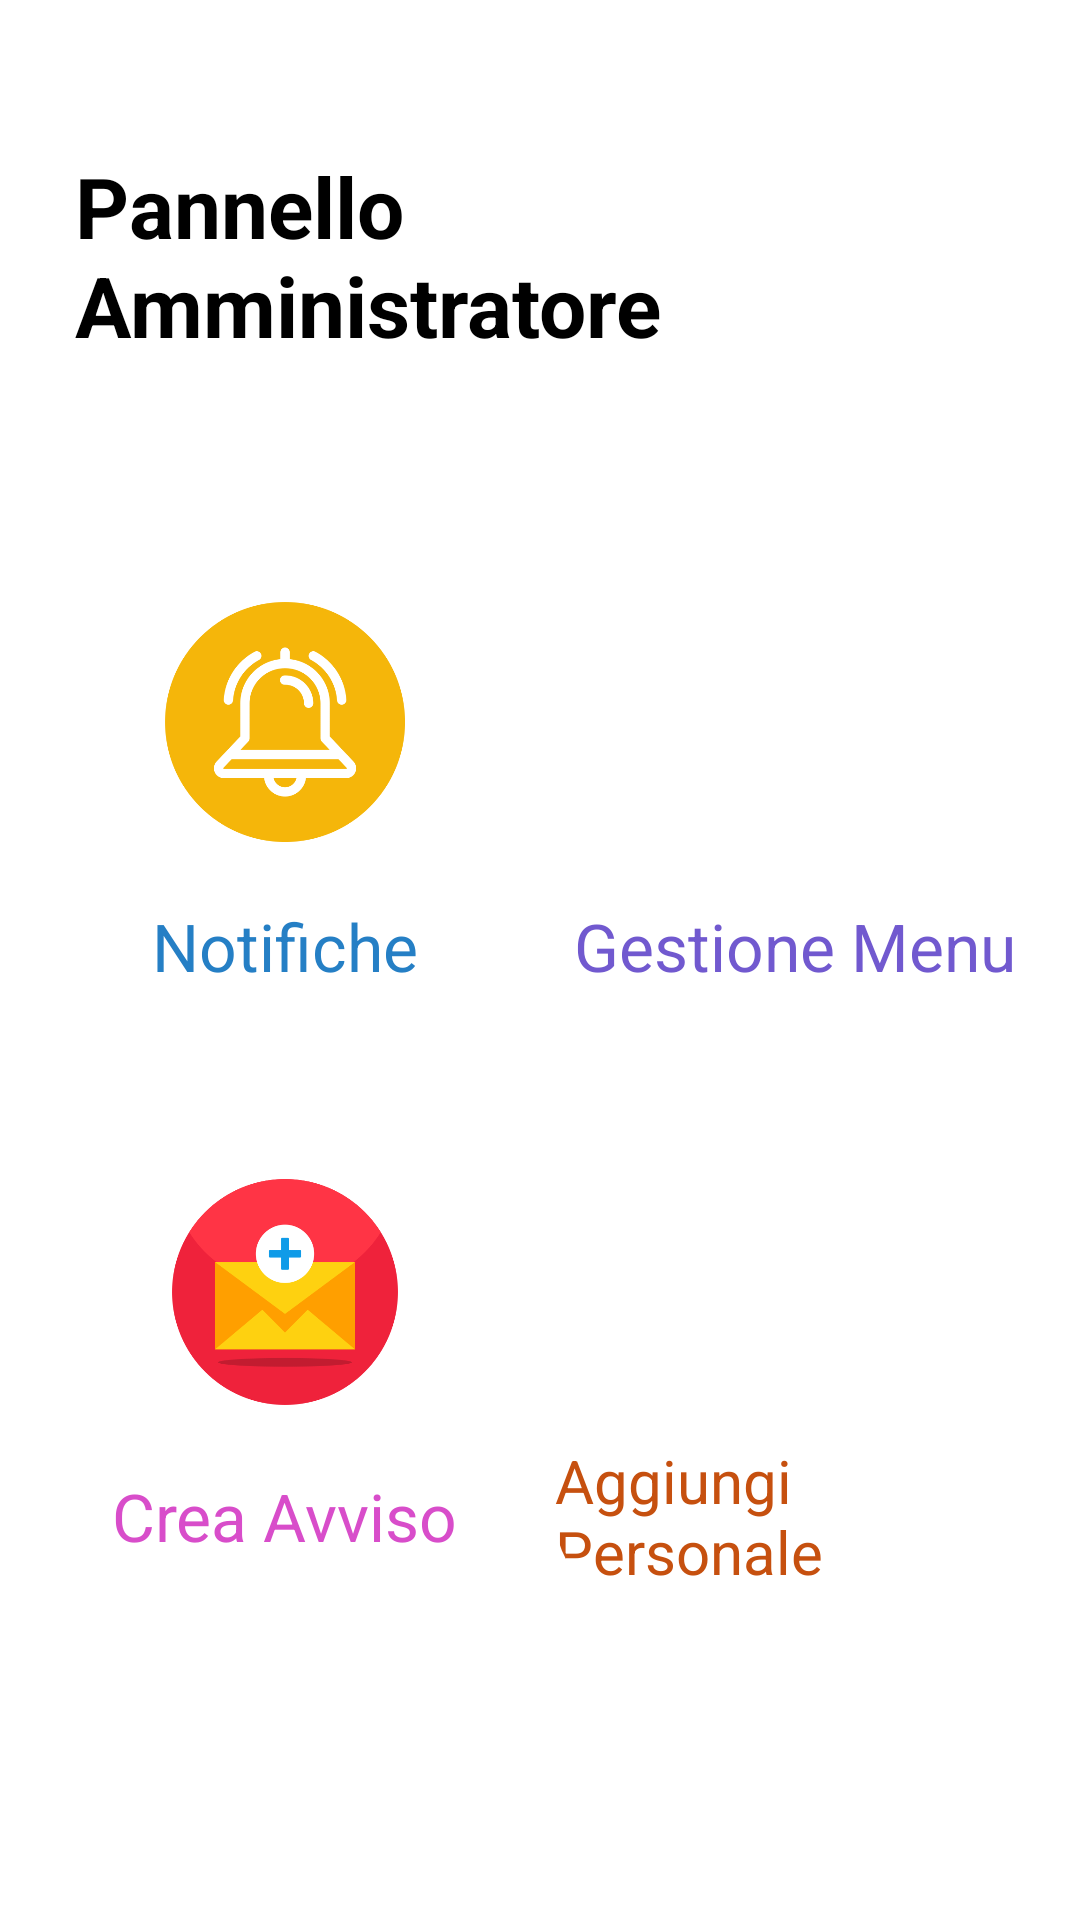

Named icons in this screenshot (1080px×1920px) and their centers, point (x, y):
messagereceived: point (285, 1292)
ringbell: point (285, 722)
